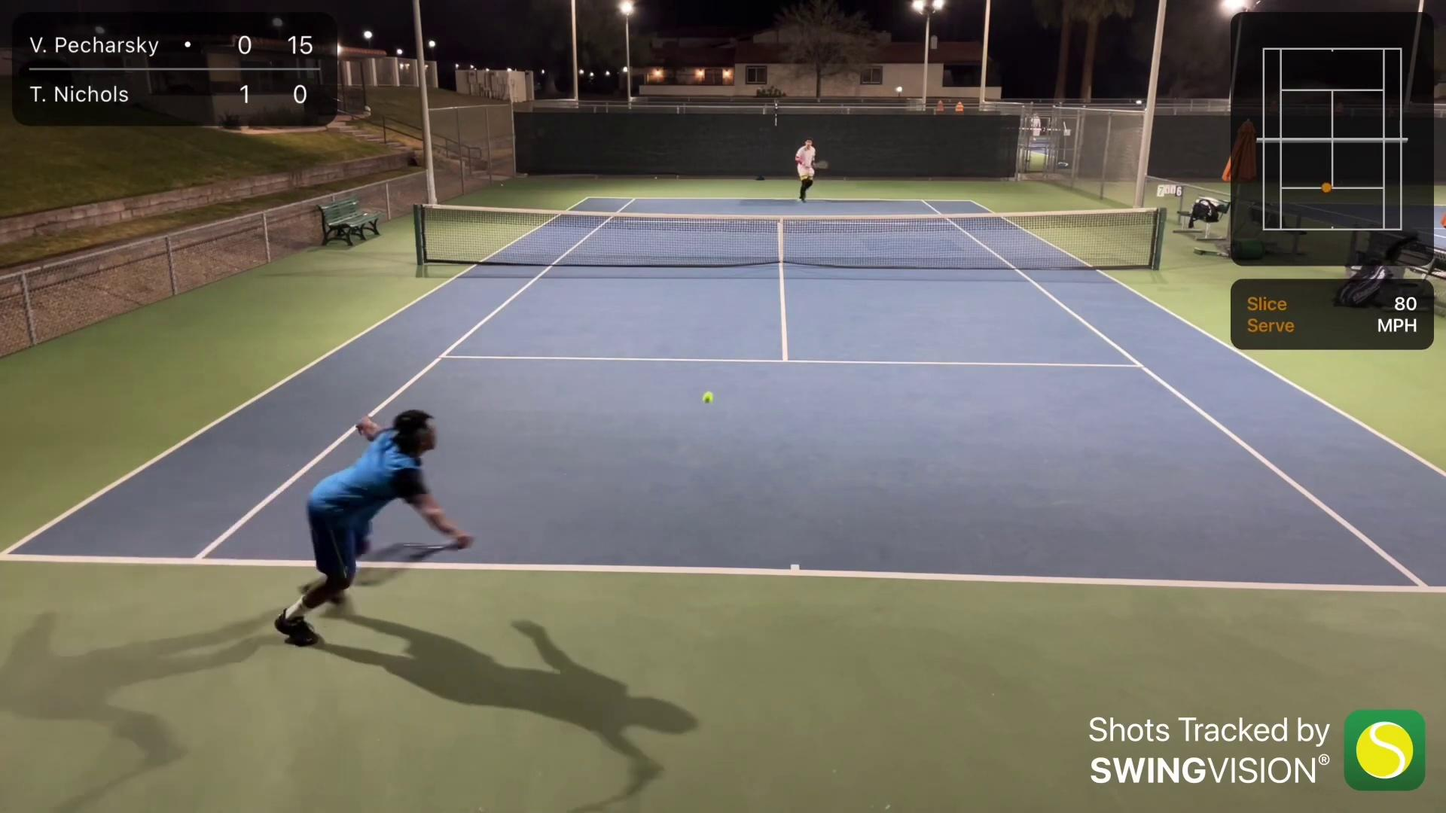ball: (698, 387, 717, 405)
